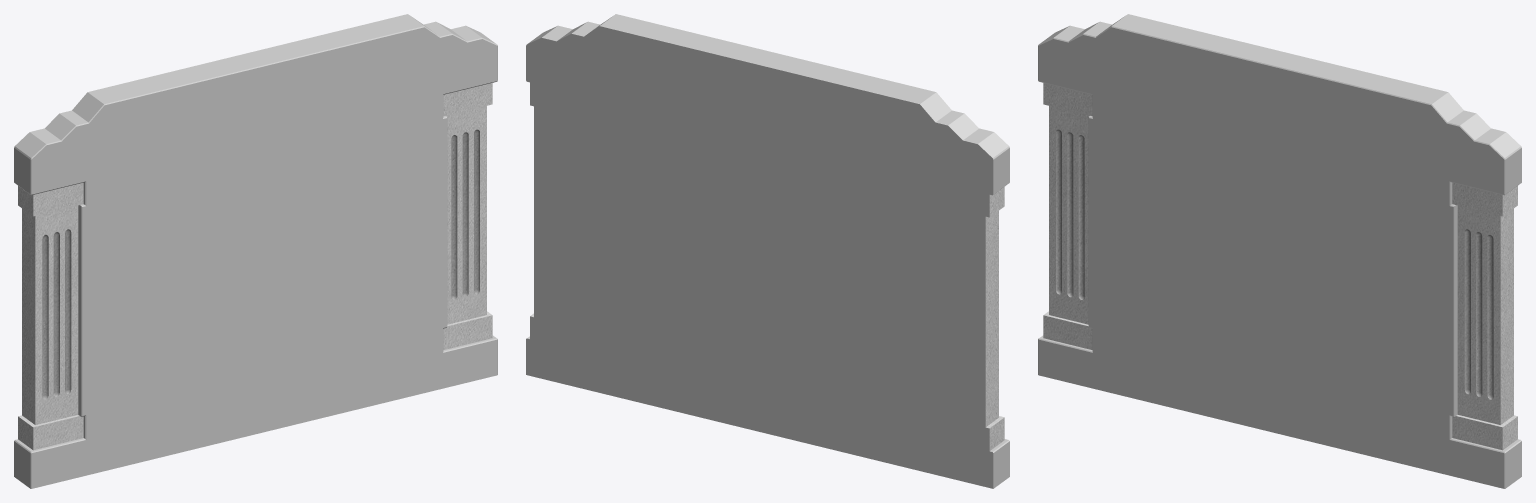
Rendered from cn21aa84b99a_tkf.glb.
3 renders of one model, left to right at view 1: azimuth 30°, elevation 25°; view 2: azimuth 150°, elevation 25°; view 3: azimuth 330°, elevation 25°, orthographic.
Visible parts, largest first — view 1: Pam-g-150, Pam-g-150_2_notexture; view 2: Pam-g-150, Pam-g-150_2_notexture; view 3: Pam-g-150, Pam-g-150_2_notexture.
Part boxes in pixels (x1,y1,x2,y2): Pam-g-150: [14, 14, 497, 488]; Pam-g-150_2_notexture: [18, 83, 492, 450]; Pam-g-150: [526, 14, 1009, 488]; Pam-g-150_2_notexture: [530, 187, 1004, 450]; Pam-g-150: [1038, 14, 1521, 488]; Pam-g-150_2_notexture: [1043, 83, 1517, 450].
Bounding box in the file's own units: 0.8 × 0.6 × 0.05.
1 material, 1 textured.
